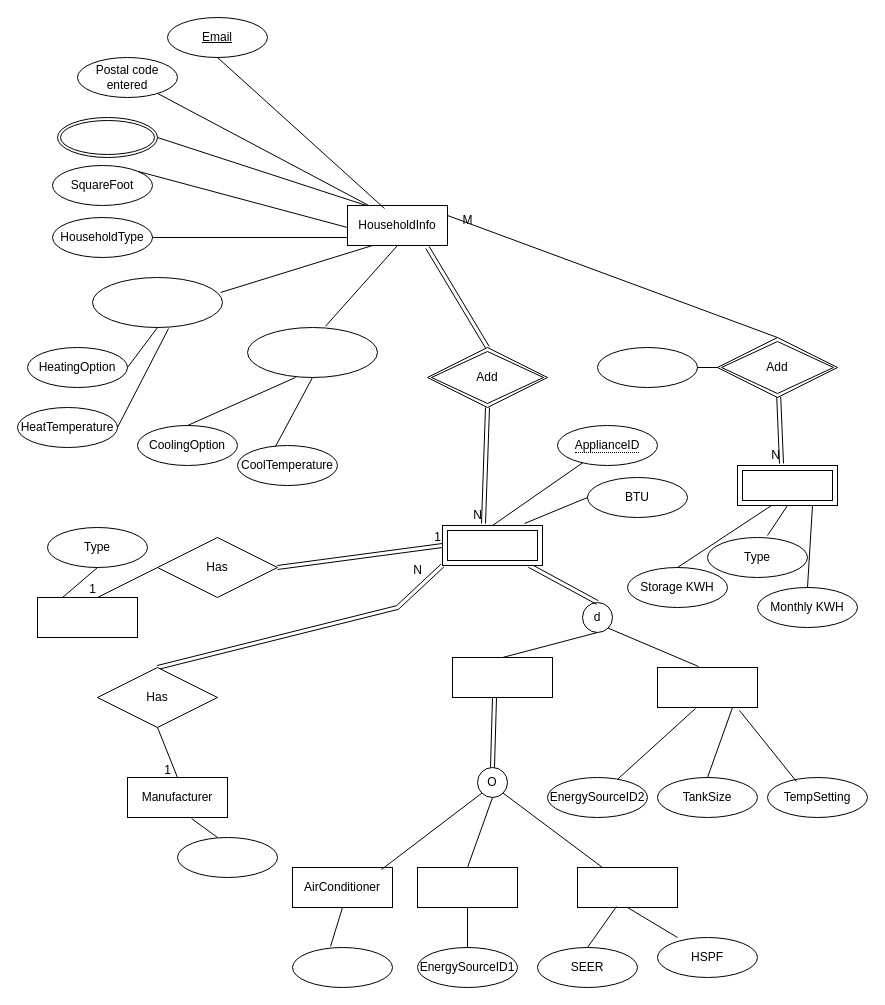
Image size: 885x1005. Some labels were removed from this diagram. The centre of each missing label's shape, as x and y in pixels:
Airhandler: point (502, 677)
Appliance: point (492, 545)
ApplianceType: point (87, 617)
EER: point (342, 967)
GeneratorID: point (647, 367)
Heater: point (467, 887)
HeatPump: point (627, 887)
Name: point (227, 857)
PowerGenerator: point (787, 485)
PublicUtilitises: point (107, 137)
ThermostatCoolSetting: point (312, 352)
ThermostatHeatSetting: point (157, 302)
WaterHeater: point (707, 687)
